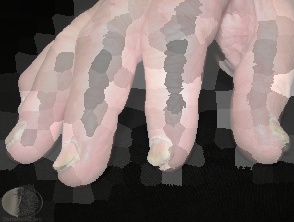Nail_psoriasis: (39, 125, 101, 188), (137, 124, 186, 177), (255, 104, 294, 159), (0, 108, 40, 161)
